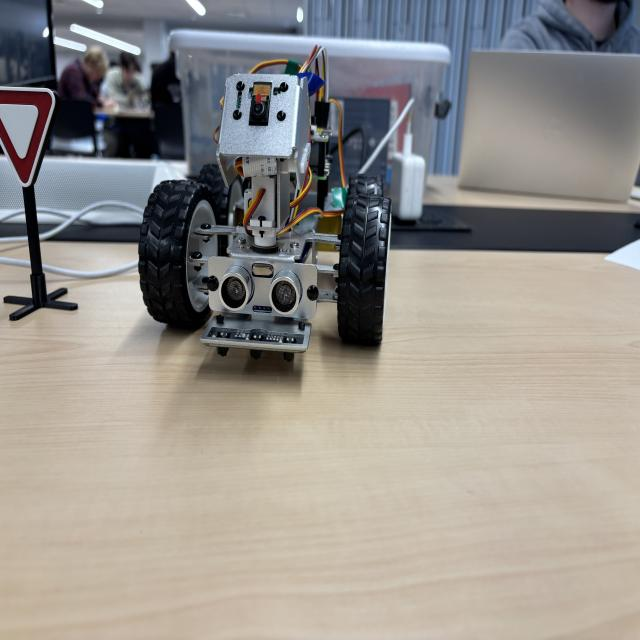sign_yield: (1, 85, 57, 187)
vehicle: (139, 49, 391, 354)
